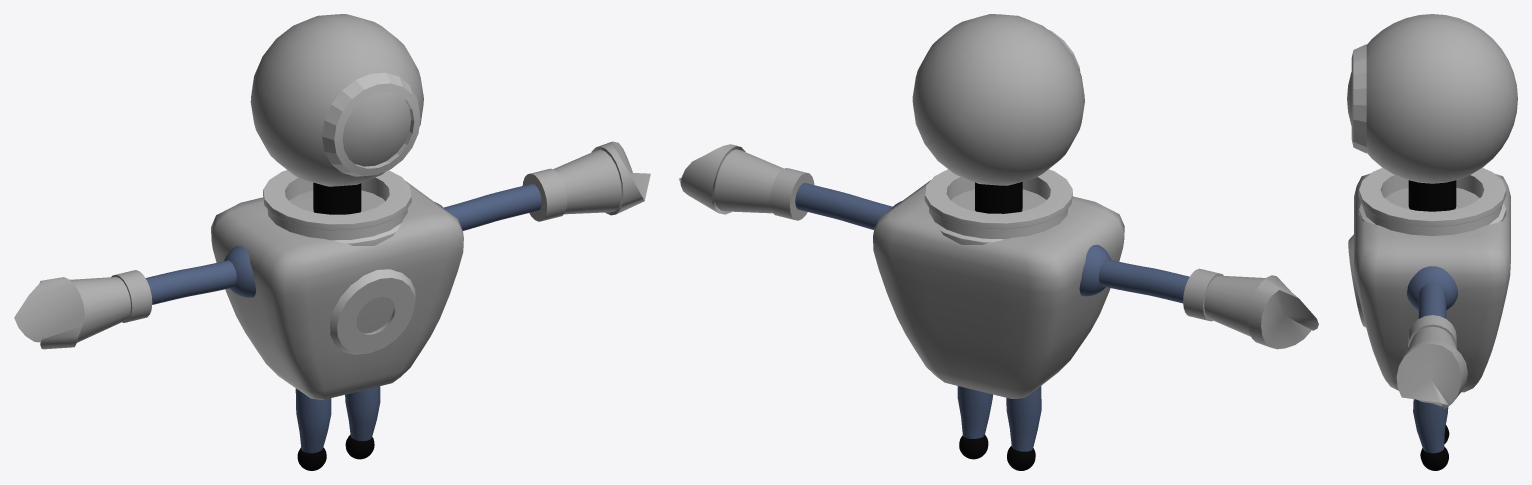
Rendered from robot_rigged_mtr.fbx.
3 renders of one model, left to right at view 1: azimuth 30°, elevation 25°; view 2: azimuth 150°, elevation 25°; view 3: azimuth 270°, elevation 25°, orthographic.
Parts seen in each view (by area): view 1: pCylinder7; view 2: pCylinder7; view 3: pCylinder7.
Boxes of the visible parts, x1,y1,x2,y2 form: pCylinder7: [14, 14, 650, 470]; pCylinder7: [679, 14, 1318, 470]; pCylinder7: [1347, 14, 1517, 470].
Size of the model in its own units: 156 by 103 by 36.62.
